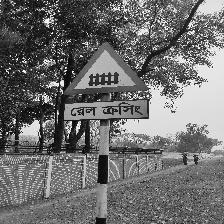Rail-crossing: (62, 42, 151, 123)
